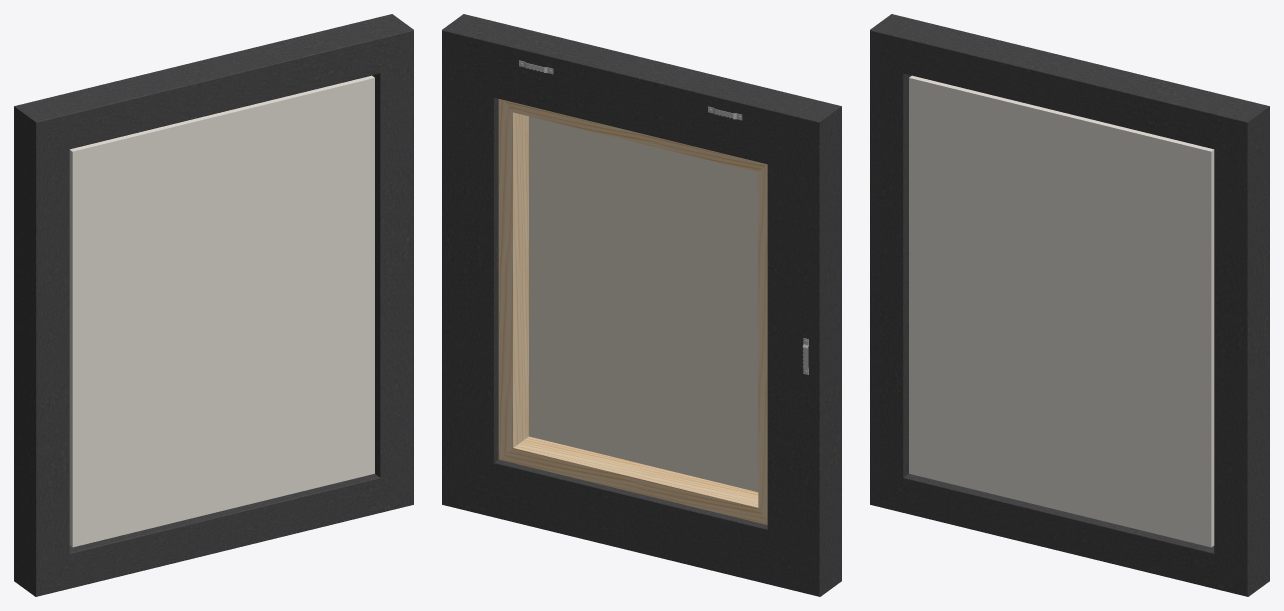
The model's file is delivery.glb.
3 views of the same model, side by side, from view 1: azimuth 30°, elevation 25°; view 2: azimuth 150°, elevation 25°; view 3: azimuth 330°, elevation 25° (orthographic).
Visible parts, largest first — view 1: Canvas artwork front, Tray approved profile 0; view 2: Tray approved profile 0, Canvas linen reverse, Stretcher top, Sawtooth hanger 0; view 3: Canvas artwork front, Tray approved profile 0.
Part boxes in pixels (x1=…): Canvas artwork front: x1=69, y1=75, x2=374, y2=547; Tray approved profile 0: x1=14, y1=14, x2=413, y2=596; Tray approved profile 0: x1=442, y1=14, x2=841, y2=596; Canvas linen reverse: x1=529, y1=116, x2=758, y2=492; Stretcher top: x1=498, y1=99, x2=767, y2=524; Sawtooth hanger 0: x1=519, y1=60, x2=808, y2=374; Canvas artwork front: x1=909, y1=75, x2=1214, y2=547; Tray approved profile 0: x1=870, y1=14, x2=1269, y2=596.
Bounding box in the file's own units: 0.5 × 0.6 × 0.0534.
Materials: 7 (3 with a texture image).
